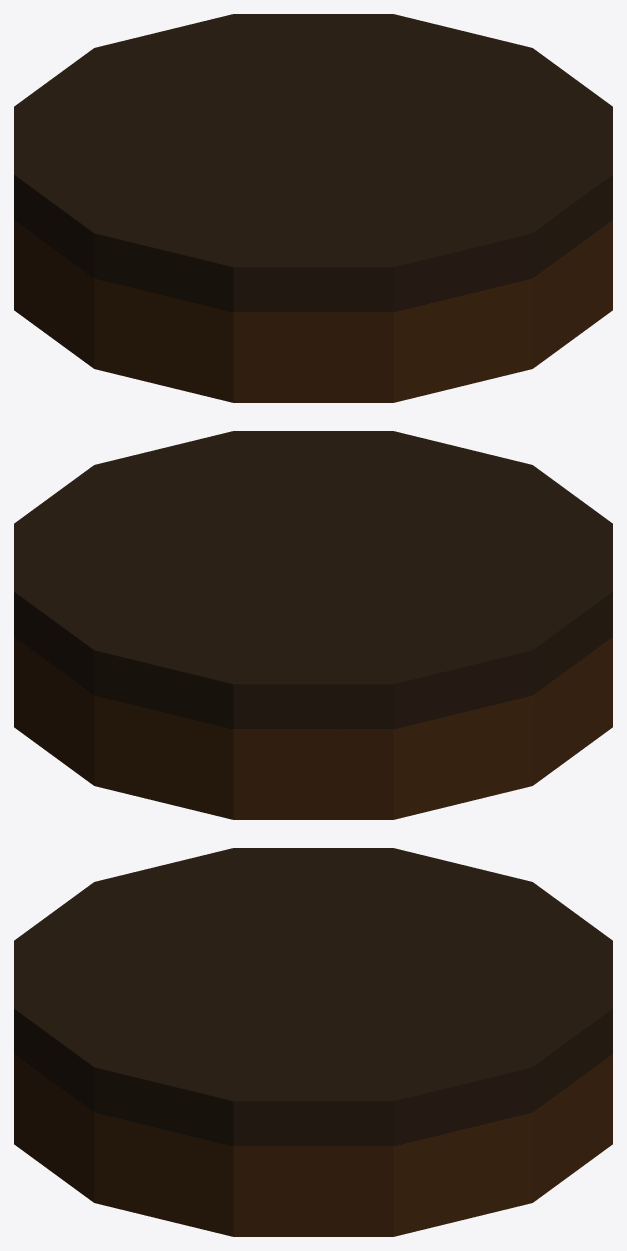
The model's file is cake_choccy.gltf.
3 renders of one model, top to bottom at view 1: azimuth 30°, elevation 25°; view 2: azimuth 150°, elevation 25°; view 3: azimuth 270°, elevation 25°, orthographic.
Parts seen in each view (by area): view 1: cake; view 2: cake; view 3: cake.
Boxes of the visible parts, <box> form: cake: <box>14,14,612,402</box>; cake: <box>14,431,612,819</box>; cake: <box>14,848,612,1236</box>.
Size of the model in its own units: 0.75 by 0.1875 by 0.75.
1 material, 1 textured.
